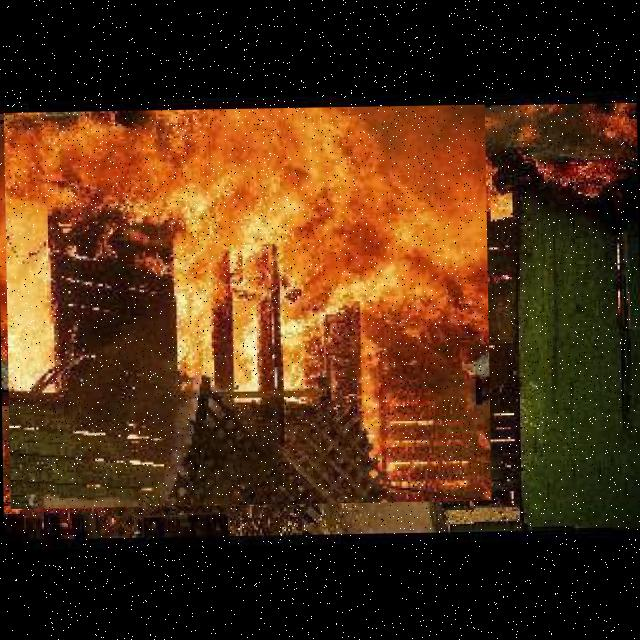fire: (3, 104, 491, 508)
